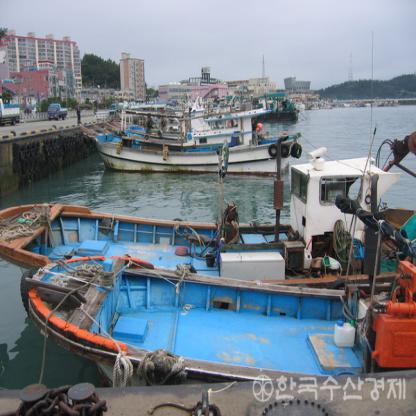fish-b: (1, 147, 415, 292), (17, 252, 416, 386), (85, 109, 307, 179)
